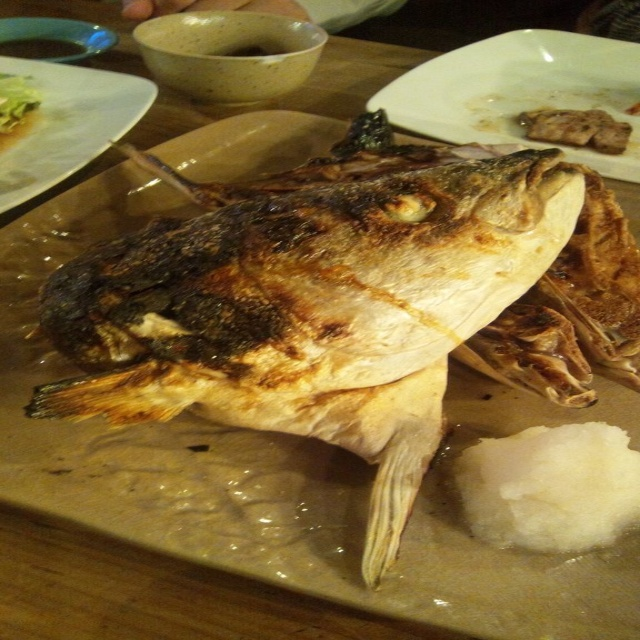Fish: (41, 141, 572, 576)
